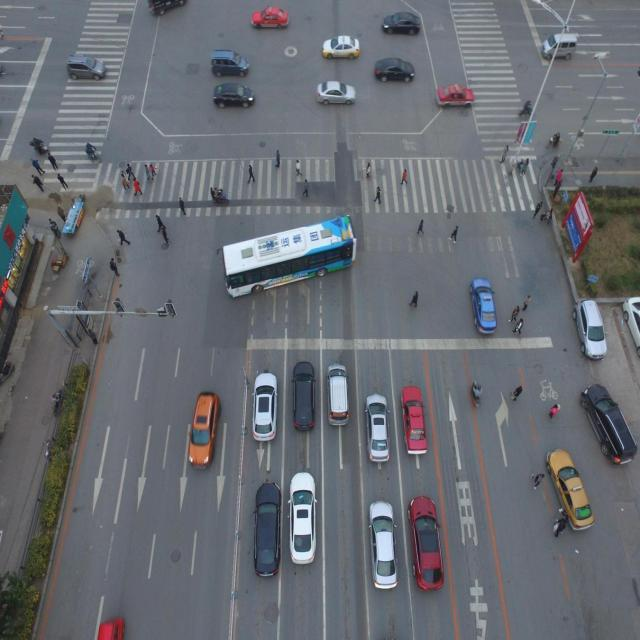p3rson: (56, 171, 70, 191), (48, 217, 61, 238), (46, 151, 59, 171), (31, 174, 44, 194), (29, 158, 44, 175), (532, 471, 545, 490), (508, 305, 520, 324), (510, 385, 522, 404), (117, 230, 130, 247), (110, 258, 120, 280), (512, 317, 523, 336), (532, 198, 541, 221), (143, 164, 154, 182), (549, 402, 560, 420), (448, 225, 458, 244), (499, 144, 508, 165), (408, 290, 419, 307), (588, 165, 598, 183), (132, 178, 142, 196), (56, 204, 66, 222), (555, 519, 564, 539), (125, 164, 136, 180), (155, 214, 165, 231), (120, 173, 129, 191), (521, 295, 531, 311), (555, 167, 563, 186), (179, 195, 187, 214), (520, 158, 528, 176), (161, 227, 169, 245), (248, 164, 255, 184), (302, 177, 309, 197), (544, 209, 553, 224), (295, 156, 302, 175), (416, 219, 424, 235), (274, 148, 281, 166), (400, 169, 407, 186), (553, 181, 560, 198), (365, 159, 371, 178), (374, 187, 381, 203), (149, 164, 157, 176), (553, 132, 559, 146), (121, 169, 128, 181), (210, 187, 216, 200), (540, 210, 546, 222)
